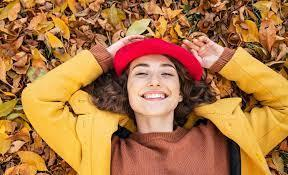Persons: (106, 32, 208, 124)
